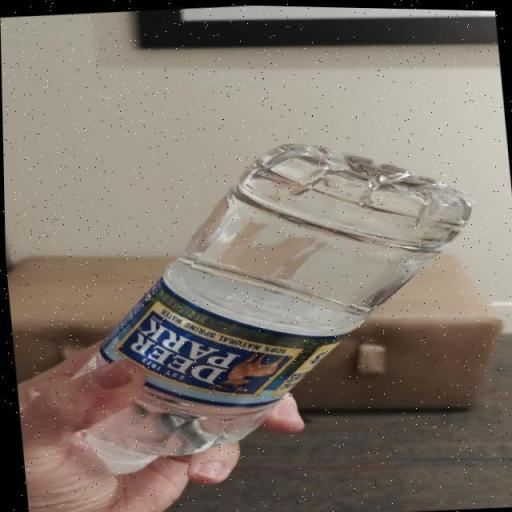plastic: (69, 142, 474, 475)
